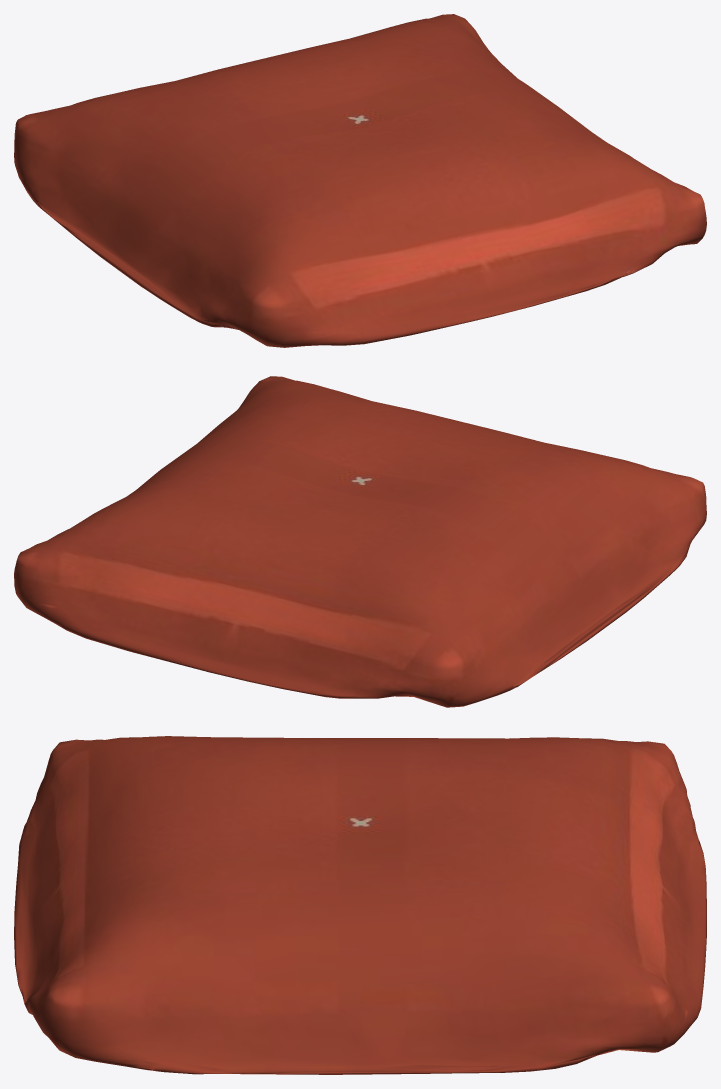
The model's file is zabuton_red.glb.
3 views of the same model, one above another, from view 1: azimuth 30°, elevation 25°; view 2: azimuth 150°, elevation 25°; view 3: azimuth 270°, elevation 25° (orthographic). The views are drawn at different scales.
Visible parts, largest first — view 1: prop_zabuton_red_felt; view 2: prop_zabuton_red_felt; view 3: prop_zabuton_red_felt.
Part boxes in pixels (<box>): prop_zabuton_red_felt: <box>14,14,706,347</box>; prop_zabuton_red_felt: <box>14,376,706,707</box>; prop_zabuton_red_felt: <box>14,736,706,1074</box>.
Size of the model in its own units: 1.16 by 0.2226 by 1.18.
1 material, 1 textured.
